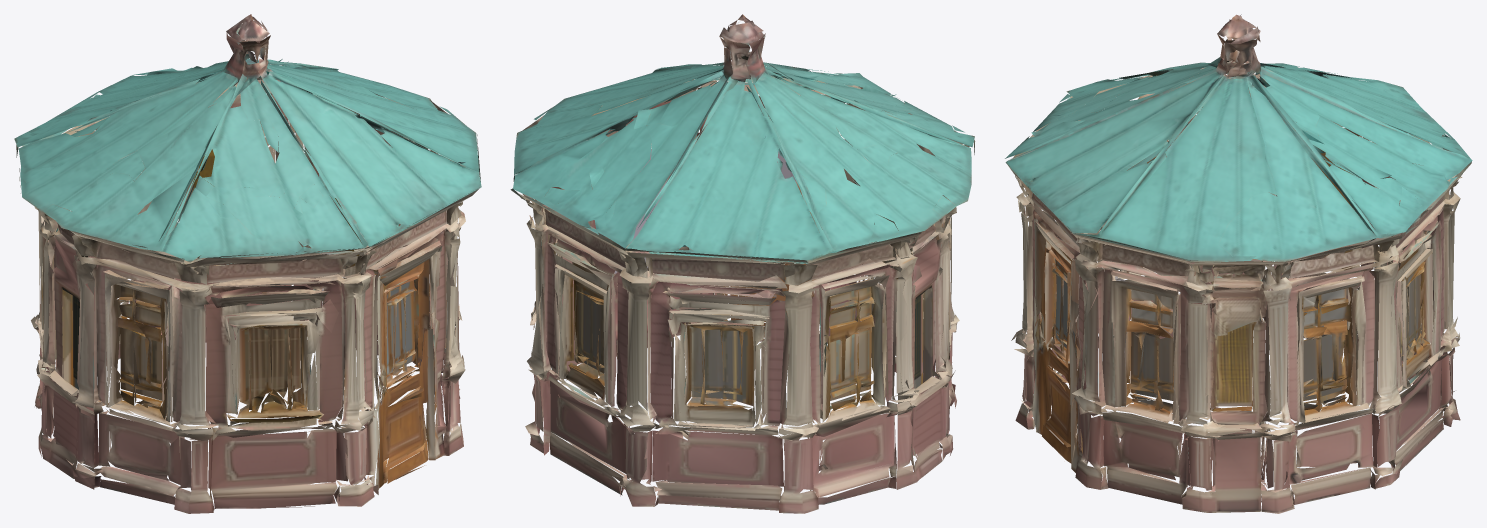
The model's file is unified--detail--ticket.glb.
3 views of the same model, side by side, from view 1: azimuth 30°, elevation 25°; view 2: azimuth 150°, elevation 25°; view 3: azimuth 270°, elevation 25° (orthographic).
Parts seen in each view (by area): view 1: ticket-0; view 2: ticket-0; view 3: ticket-0.
Part boxes in pixels (bbox=[...]): ticket-0: bbox=[14, 14, 481, 513]; ticket-0: bbox=[510, 14, 975, 513]; ticket-0: bbox=[1005, 14, 1472, 513].
Bounding box in the file's own units: 4.27 × 4.1 × 4.25.
Materials: 1 (1 with a texture image).
